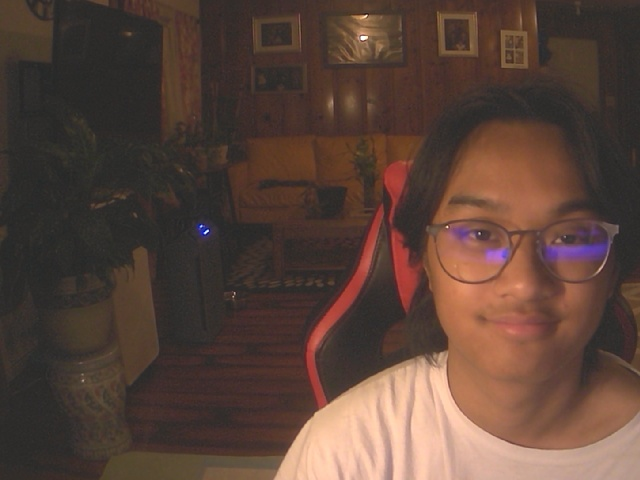happy: (392, 79, 633, 385)
